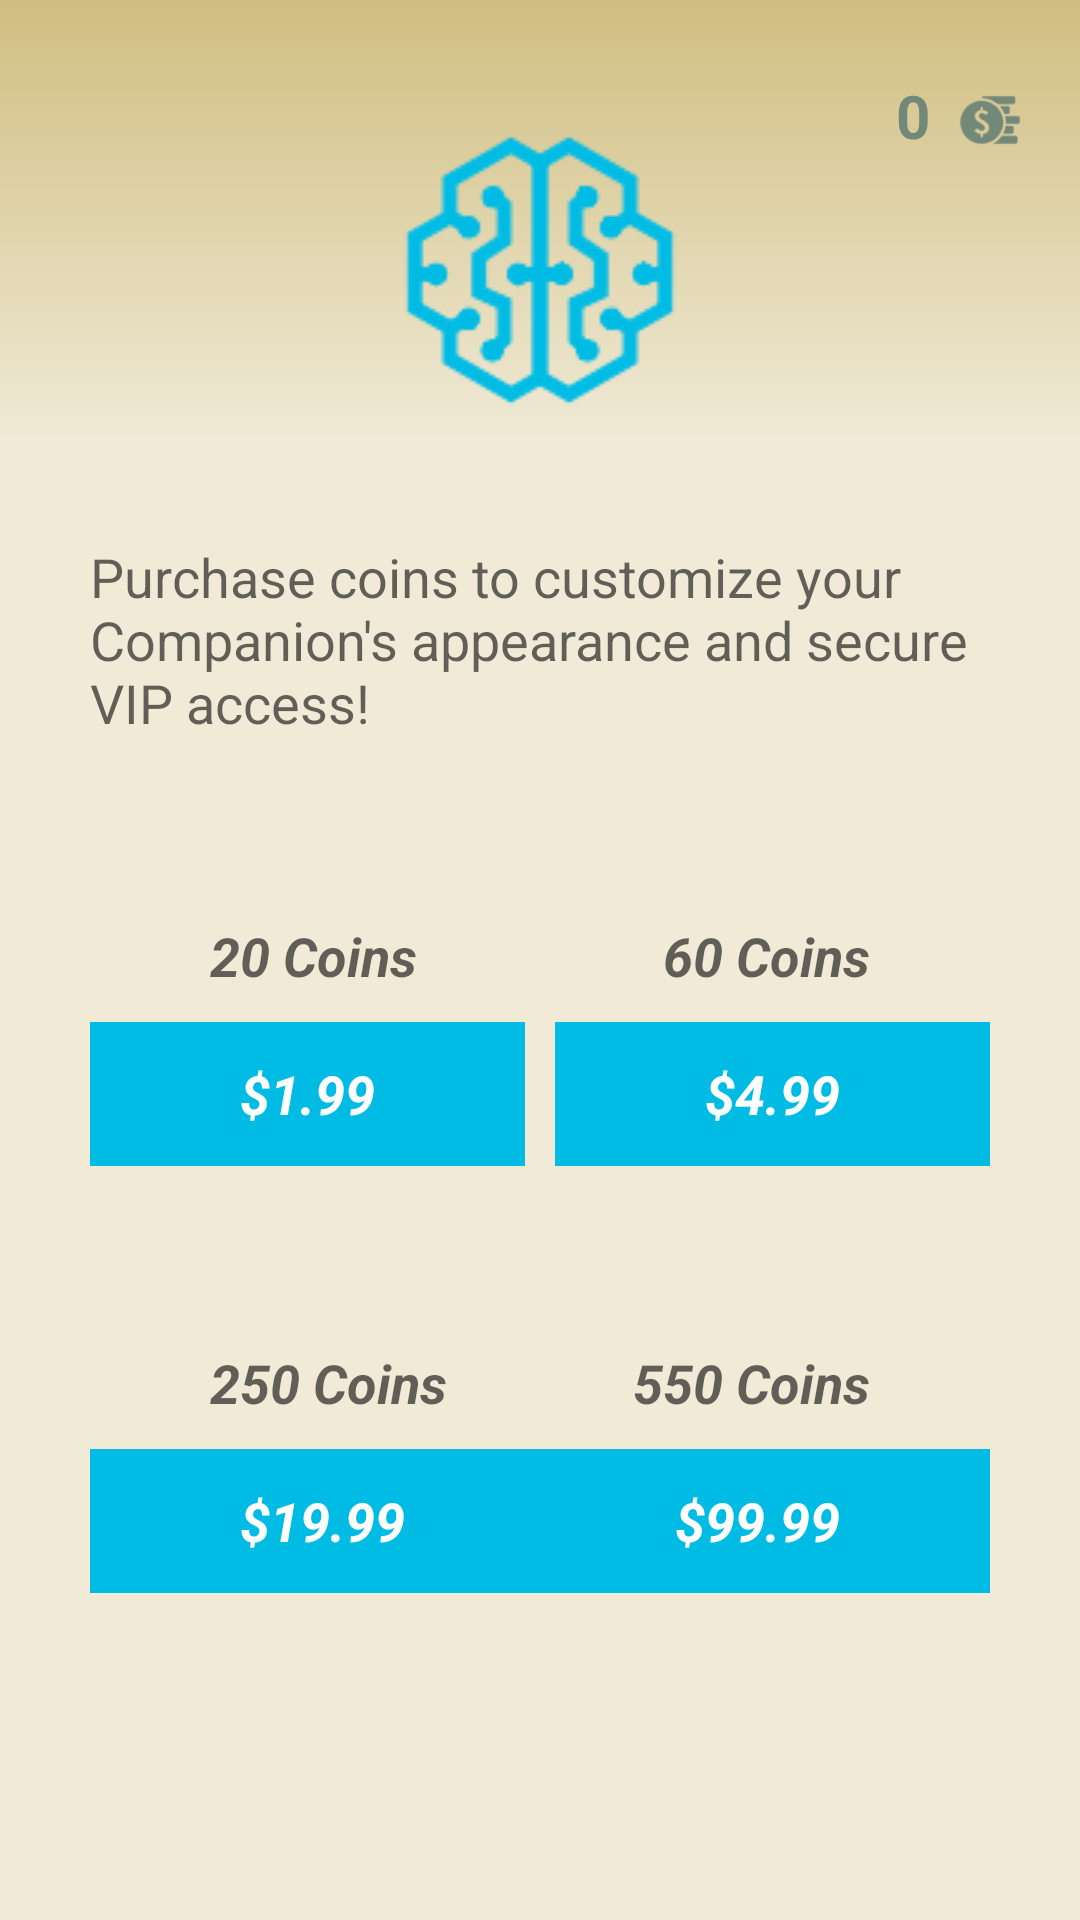

Screen size 1080 x 1920. Icon name, then its box in pixels as BBox(x1, y1, x2, y2):
coins: BBox(960, 96, 1020, 144)
